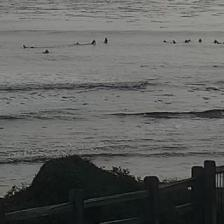surfer: (22, 44, 34, 48), (91, 39, 96, 44), (43, 49, 49, 53), (104, 37, 108, 43), (214, 39, 218, 44), (74, 42, 80, 45), (163, 40, 168, 43), (184, 40, 189, 43), (199, 38, 202, 43), (218, 42, 223, 45), (173, 40, 176, 43), (188, 39, 190, 41)
